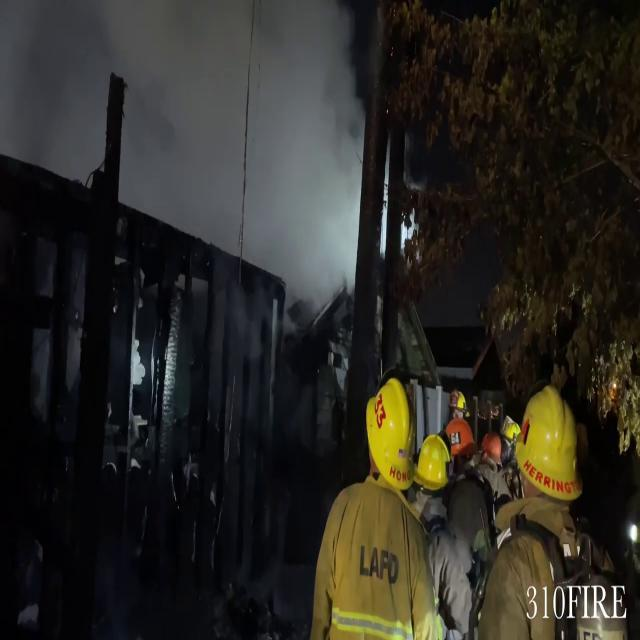Smoke: (126, 0, 373, 276)
